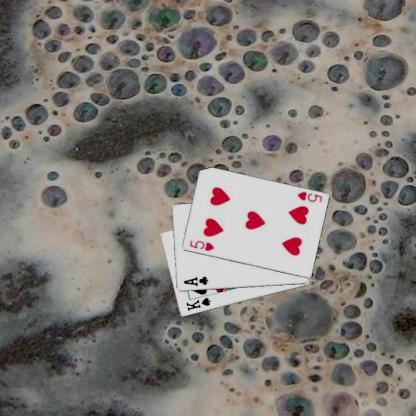5H: (294, 189, 324, 204), (187, 237, 215, 253)
AC: (181, 274, 209, 288)
KS: (183, 295, 212, 313)
